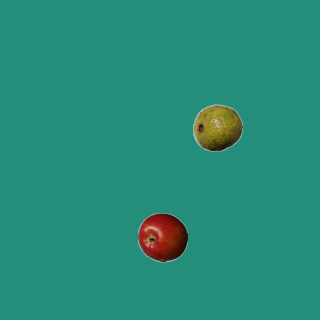Apple Braeburn: (137, 212, 187, 262)
Guava: (192, 102, 242, 152)
